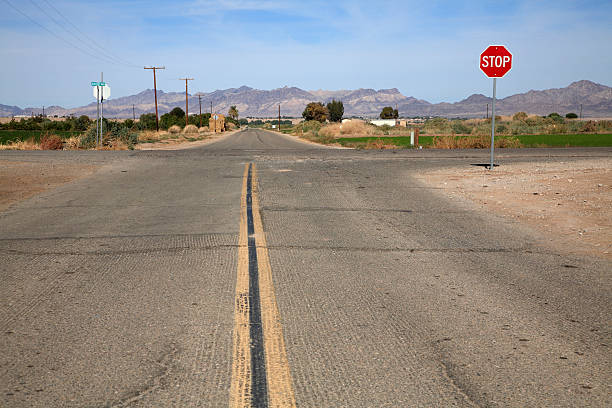StopSign: (479, 43, 513, 78)
